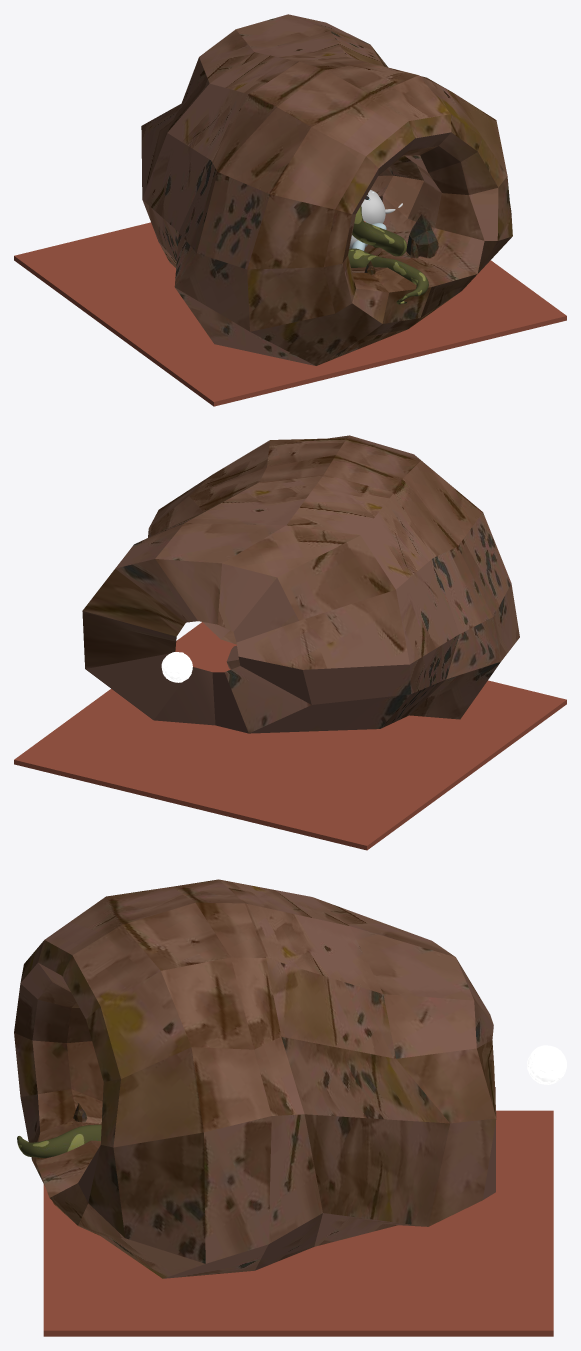
3 views of the same model, one above another, from view 1: azimuth 30°, elevation 25°; view 2: azimuth 150°, elevation 25°; view 3: azimuth 270°, elevation 25° (orthographic). The views are drawn at different scales.
Parts seen in each view (by area): view 1: group96187052, Plane.006, Object_2, Cabeza; view 2: group96187052, Plane.006, Luna; view 3: group96187052, Plane.006, Object_2, Luna.
Part boxes in pixels (box(x1,y1,x2,y2)): group96187052: box(141, 14, 512, 365); Plane.006: box(14, 222, 566, 406); Object_2: box(348, 205, 428, 304); Cabeza: box(361, 190, 402, 224); group96187052: box(82, 435, 519, 733); Plane.006: box(14, 622, 566, 850); Luna: box(161, 652, 192, 682); group96187052: box(14, 879, 496, 1278); Plane.006: box(43, 1110, 553, 1336); Object_2: box(17, 1124, 101, 1158); Luna: box(527, 1045, 566, 1084).
Size of the model in its own units: 9.97 by 6.63 by 10.36.
Materials: 11 (6 with a texture image).
